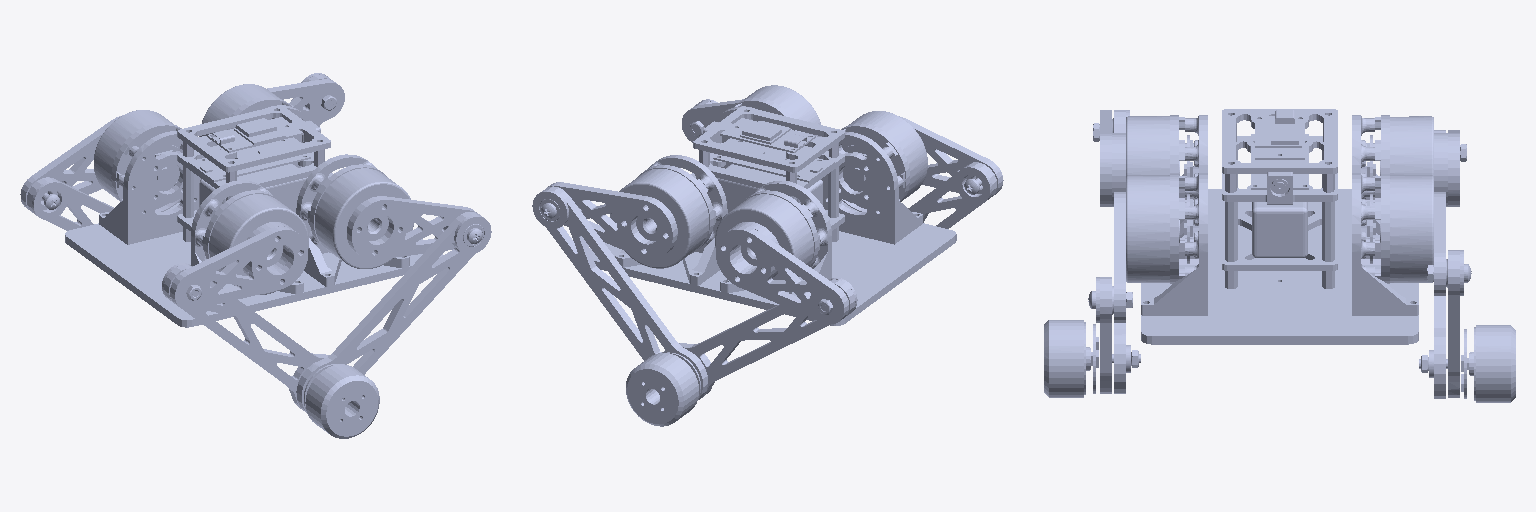
URDF robot description (Ass 1.1):
<?xml version="1.0" encoding="utf-8"?>
<!-- This URDF was automatically created by SolidWorks to URDF Exporter! Originally created by [author] ([email redacted]) 
     Commit Version: 1.6.0-4-g7f85cfe  Build Version: 1.6.7995.38578
     For more information, please see http://wiki.ros.org/sw_urdf_exporter -->
<robot
  name="Ass 1.1">
  <link
    name="base_link">
    <inertial>
      <origin
        xyz="4.09841988512367E-05 2.37259713124077E-06 0.0204223779825749"
        rpy="0 0 0" />
      <mass
        value="0.310805030676399" />
      <inertia
        ixx="0.000130060066627176"
        ixy="1.40022801629673E-09"
        ixz="-5.58328344584131E-08"
        iyy="0.000212083252188243"
        iyz="-1.56227645579612E-09"
        izz="0.000276271215536127" />
    </inertial>
    <visual>
      <origin
        xyz="0 0 0"
        rpy="0 0 0" />
      <geometry>
        <mesh
          filename="package://Ass 1.1/meshes/base_link.STL" />
      </geometry>
      <material
        name="">
        <color
          rgba="0.792156862745098 0.819607843137255 0.933333333333333 1" />
      </material>
    </visual>
    <collision>
      <origin
        xyz="0 0 0"
        rpy="0 0 0" />
      <geometry>
        <mesh
          filename="package://Ass 1.1/meshes/base_link.STL" />
      </geometry>
    </collision>
  </link>
  <link
    name="big3">
    <inertial>
      <origin
        xyz="-0.0134070886544285 0.00146559841204751 -0.00673551057779109"
        rpy="0 0 0" />
      <mass
        value="0.0104336042175876" />
      <inertia
        ixx="8.22335040292358E-07"
        ixy="2.61935145644951E-07"
        ixz="-1.2894277006672E-08"
        iyy="3.18984751436731E-06"
        iyz="1.40954031053812E-09"
        izz="3.9627706999722E-06" />
    </inertial>
    <visual>
      <origin
        xyz="0 0 0"
        rpy="0 0 0" />
      <geometry>
        <mesh
          filename="package://Ass 1.1/meshes/big3.STL" />
      </geometry>
      <material
        name="">
        <color
          rgba="0.792156862745098 0.819607843137255 0.933333333333333 1" />
      </material>
    </visual>
    <collision>
      <origin
        xyz="0 0 0"
        rpy="0 0 0" />
      <geometry>
        <mesh
          filename="package://Ass 1.1/meshes/big3.STL" />
      </geometry>
    </collision>
  </link>
  <joint
    name="jointbig3"
    type="revolute">
    <origin
      xyz="-0.030004 -0.0665 0.03"
      rpy="-1.5708 0 0" />
    <parent
      link="base_link" />
    <child
      link="big3" />
    <axis
      xyz="0 0 1" />
    <limit
      lower="0"
      upper="0"
      effort="0"
      velocity="0" />
  </joint>
  <link
    name="small3">
    <inertial>
      <origin
        xyz="0.0394582340714023 0.0368416725480409 0.00243582660253754"
        rpy="0 0 0" />
      <mass
        value="0.0111561368021954" />
      <inertia
        ixx="6.43655255680271E-06"
        ixy="-6.3229370913612E-06"
        ixz="-7.10811673037926E-09"
        iyy="7.32047191098462E-06"
        iyz="-6.63741040365017E-09"
        izz="1.36906272520063E-05" />
    </inertial>
    <visual>
      <origin
        xyz="0 0 0"
        rpy="0 0 0" />
      <geometry>
        <mesh
          filename="package://Ass 1.1/meshes/small3.STL" />
      </geometry>
      <material
        name="">
        <color
          rgba="0.792156862745098 0.819607843137255 0.933333333333333 1" />
      </material>
    </visual>
    <collision>
      <origin
        xyz="0 0 0"
        rpy="0 0 0" />
      <geometry>
        <mesh
          filename="package://Ass 1.1/meshes/small3.STL" />
      </geometry>
    </collision>
  </link>
  <joint
    name="jointsmall3"
    type="revolute">
    <origin
      xyz="-0.049704 0.0054334 -0.005"
      rpy="0 0 0" />
    <parent
      link="big3" />
    <child
      link="small3" />
    <axis
      xyz="0 0 -1" />
    <limit
      lower="0"
      upper="0"
      effort="0"
      velocity="0" />
  </joint>
  <link
    name="big4">
    <inertial>
      <origin
        xyz="0.0224576054646395 0.00513224980073214 -0.00273603004602135"
        rpy="0 0 0" />
      <mass
        value="0.00777564125771859" />
      <inertia
        ixx="6.45714526227384E-07"
        ixy="-5.26632271374529E-07"
        ixz="-1.26450924213408E-08"
        iyy="2.82979081547529E-06"
        iyz="-2.88978559758573E-09"
        izz="3.42452671783293E-06" />
    </inertial>
    <visual>
      <origin
        xyz="0 0 0"
        rpy="0 0 0" />
      <geometry>
        <mesh
          filename="package://Ass 1.1/meshes/big4.STL" />
      </geometry>
      <material
        name="">
        <color
          rgba="0.792156862745098 0.819607843137255 0.933333333333333 1" />
      </material>
    </visual>
    <collision>
      <origin
        xyz="0 0 0"
        rpy="0 0 0" />
      <geometry>
        <mesh
          filename="package://Ass 1.1/meshes/big4.STL" />
      </geometry>
    </collision>
  </link>
  <joint
    name="jointbig4"
    type="revolute">
    <origin
      xyz="0.029996 -0.0665 0.03"
      rpy="-1.5708 0 0" />
    <parent
      link="base_link" />
    <child
      link="big4" />
    <axis
      xyz="0 0 -1" />
    <limit
      lower="0"
      upper="0"
      effort="0"
      velocity="0" />
  </joint>
  <link
    name="small4">
    <inertial>
      <origin
        xyz="-0.0664136970004676 0.0535961162396307 -0.0119574529093842"
        rpy="0 0 0" />
      <mass
        value="0.0268340222050022" />
      <inertia
        ixx="7.02864859087569E-06"
        ixy="6.19420931063004E-06"
        ixz="-6.96177758529783E-09"
        iyy="9.72224935986626E-06"
        iyz="6.10002469626266E-09"
        izz="1.59304666768253E-05" />
    </inertial>
    <visual>
      <origin
        xyz="0 0 0"
        rpy="0 0 0" />
      <geometry>
        <mesh
          filename="package://Ass 1.1/meshes/small4.STL" />
      </geometry>
      <material
        name="">
        <color
          rgba="0.792156862745098 0.819607843137255 0.933333333333333 1" />
      </material>
    </visual>
    <collision>
      <origin
        xyz="0 0 0"
        rpy="0 0 0" />
      <geometry>
        <mesh
          filename="package://Ass 1.1/meshes/small4.STL" />
      </geometry>
    </collision>
  </link>
  <joint
    name="jointsmall4"
    type="revolute">
    <origin
      xyz="0.048743 0.011139 -0.006"
      rpy="0 0 0" />
    <parent
      link="big4" />
    <child
      link="small4" />
    <axis
      xyz="0 0 1" />
    <limit
      lower="0"
      upper="0"
      effort="0"
      velocity="0" />
  </joint>
  <link
    name="tire34">
    <inertial>
      <origin
        xyz="0.00217112730701572 -0.0530017260825686 0.0855001142820936"
        rpy="0 0 0" />
      <mass
        value="6.43417489455155" />
      <inertia
        ixx="0.0380101766979838"
        ixy="0.000437602498857918"
        ixz="6.11058573748003E-05"
        iyy="0.0353911818011722"
        iyz="-1.20645409849835E-05"
        izz="0.0270525455456595" />
    </inertial>
    <visual>
      <origin
        xyz="0 0 0"
        rpy="0 0 0" />
      <geometry>
        <mesh
          filename="package://Ass 1.1/meshes/tire34.STL" />
      </geometry>
      <material
        name="">
        <color
          rgba="1 1 1 1" />
      </material>
    </visual>
    <collision>
      <origin
        xyz="0 0 0"
        rpy="0 0 0" />
      <geometry>
        <mesh
          filename="package://Ass 1.1/meshes/tire34.STL" />
      </geometry>
    </collision>
  </link>
  <joint
    name="jointtire34"
    type="floating">
    <origin
      xyz="-0.081701 0.065954 -0.013"
      rpy="0 0 0" />
    <parent
      link="small4" />
    <child
      link="tire34" />
    <axis
      xyz="0 0 1" />
    <limit
      lower="0"
      upper="0"
      effort="0"
      velocity="0" />
  </joint>
  <link
    name="big1">
    <inertial>
      <origin
        xyz="0.0230137231993178 -0.00102595113315121 0.00273603004602135"
        rpy="0 0 0" />
      <mass
        value="0.00777564125771859" />
      <inertia
        ixx="5.30172326805182E-07"
        ixy="1.07882210026455E-07"
        ixz="1.29582220100487E-08"
        iyy="2.94533301489749E-06"
        iyz="-5.77672469964852E-10"
        izz="3.42452671783293E-06" />
    </inertial>
    <visual>
      <origin
        xyz="0 0 0"
        rpy="0 0 0" />
      <geometry>
        <mesh
          filename="package://Ass 1.1/meshes/big1.STL" />
      </geometry>
      <material
        name="">
        <color
          rgba="0.792156862745098 0.819607843137255 0.933333333333333 1" />
      </material>
    </visual>
    <collision>
      <origin
        xyz="0 0 0"
        rpy="0 0 0" />
      <geometry>
        <mesh
          filename="package://Ass 1.1/meshes/big1.STL" />
      </geometry>
    </collision>
  </link>
  <joint
    name="jointbig1"
    type="revolute">
    <origin
      xyz="0.029996 0.0665 0.03"
      rpy="-1.5708 0 0" />
    <parent
      link="base_link" />
    <child
      link="big1" />
    <axis
      xyz="0 0 -1" />
    <limit
      lower="0"
      upper="0"
      effort="0"
      velocity="0" />
  </joint>
  <link
    name="small1">
    <inertial>
      <origin
        xyz="-0.0583815990055666 0.0622487889263295 0.0119574529093842"
        rpy="0 0 0" />
      <mass
        value="0.0268340222050022" />
      <inertia
        ixx="8.78964937007165E-06"
        ixy="6.32538839065257E-06"
        ixz="6.60032885441986E-09"
        iyy="7.96124858067029E-06"
        iyz="-6.489399622132E-09"
        izz="1.59304666768253E-05" />
    </inertial>
    <visual>
      <origin
        xyz="0 0 0"
        rpy="0 0 0" />
      <geometry>
        <mesh
          filename="package://Ass 1.1/meshes/small1.STL" />
      </geometry>
      <material
        name="">
        <color
          rgba="0.792156862745098 0.819607843137255 0.933333333333333 1" />
      </material>
    </visual>
    <collision>
      <origin
        xyz="0 0 0"
        rpy="0 0 0" />
      <geometry>
        <mesh
          filename="package://Ass 1.1/meshes/small1.STL" />
      </geometry>
    </collision>
  </link>
  <joint
    name="jointsmall1"
    type="revolute">
    <origin
      xyz="0.04995 -0.0022268 0.006"
      rpy="0 0 0" />
    <parent
      link="big1" />
    <child
      link="small1" />
    <axis
      xyz="0 0 1" />
    <limit
      lower="0"
      upper="0"
      effort="0"
      velocity="0" />
  </joint>
  <link
    name="tire12">
    <inertial>
      <origin
        xyz="-0.00889683852979697 -0.050258398320467 -0.0854998857179067"
        rpy="0 0 0" />
      <mass
        value="6.43417489455155" />
      <inertia
        ixx="0.0380101766979838"
        ixy="0.000437602498857918"
        ixz="6.11058573748007E-05"
        iyy="0.0353911818011722"
        iyz="-1.20645409849869E-05"
        izz="0.0270525455456595" />
    </inertial>
    <visual>
      <origin
        xyz="0 0 0"
        rpy="0 0 0" />
      <geometry>
        <mesh
          filename="package://Ass 1.1/meshes/tire12.STL" />
      </geometry>
      <material
        name="">
        <color
          rgba="1 1 1 1" />
      </material>
    </visual>
    <collision>
      <origin
        xyz="0 0 0"
        rpy="0 0 0" />
      <geometry>
        <mesh
          filename="package://Ass 1.1/meshes/tire12.STL" />
      </geometry>
    </collision>
  </link>
  <joint
    name="jointtire12"
    type="floating">
    <origin
      xyz="-0.071841 0.076576 0.013"
      rpy="0 0 0" />
    <parent
      link="small1" />
    <child
      link="tire12" />
    <axis
      xyz="0 0 -1" />
  </joint>
  <link
    name="big2">
    <inertial>
      <origin
        xyz="-0.0129326682114563 0.00382676074840404 0.00673551057779109"
        rpy="0 0 0" />
      <mass
        value="0.0104336042175876" />
      <inertia
        ixx="9.88913738644862E-07"
        ixy="6.59726234163802E-07"
        ixz="1.24380028097185E-08"
        iyy="3.02326881601479E-06"
        iyz="-3.68038985941867E-09"
        izz="3.96277069997219E-06" />
    </inertial>
    <visual>
      <origin
        xyz="0 0 0"
        rpy="0 0 0" />
      <geometry>
        <mesh
          filename="package://Ass 1.1/meshes/big2.STL" />
      </geometry>
      <material
        name="">
        <color
          rgba="0.792156862745098 0.819607843137255 0.933333333333333 1" />
      </material>
    </visual>
    <collision>
      <origin
        xyz="0 0 0"
        rpy="0 0 0" />
      <geometry>
        <mesh
          filename="package://Ass 1.1/meshes/big2.STL" />
      </geometry>
    </collision>
  </link>
  <joint
    name="jointbig2"
    type="revolute">
    <origin
      xyz="-0.030004 0.0665 0.03"
      rpy="-1.5708 0 0" />
    <parent
      link="base_link" />
    <child
      link="big2" />
    <axis
      xyz="0 0 -1" />
    <limit
      lower="0"
      upper="0"
      effort="0"
      velocity="0" />
  </joint>
  <link
    name="small2">
    <inertial>
      <origin
        xyz="0.044243009495417 0.0309324616375522 -0.00243582660253762"
        rpy="0 0 0" />
      <mass
        value="0.0111561368021954" />
      <inertia
        ixx="4.70949583921532E-06"
        ixy="-5.95568885160247E-06"
        ixz="7.97069377777079E-09"
        iyy="9.04752862857196E-06"
        iyz="5.57212535936874E-09"
        izz="1.36906272520062E-05" />
    </inertial>
    <visual>
      <origin
        xyz="0 0 0"
        rpy="0 0 0" />
      <geometry>
        <mesh
          filename="package://Ass 1.1/meshes/small2.STL" />
      </geometry>
      <material
        name="">
        <color
          rgba="0.792156862745098 0.819607843137255 0.933333333333333 1" />
      </material>
    </visual>
    <collision>
      <origin
        xyz="0 0 0"
        rpy="0 0 0" />
      <geometry>
        <mesh
          filename="package://Ass 1.1/meshes/small2.STL" />
      </geometry>
    </collision>
  </link>
  <joint
    name="jointsmall2"
    type="revolute">
    <origin
      xyz="-0.047945 0.014187 0.005"
      rpy="0 0 0" />
    <parent
      link="big2" />
    <child
      link="small2" />
    <axis
      xyz="0 0 -1" />
    <limit
      lower="0"
      upper="0"
      effort="0"
      velocity="0" />
  </joint>
</robot>

--- What the picture shows (computed from the rendered views, not written in the file) ---
The picture shows the robot from 3 angles, left to right: view 1: azimuth 30°, elevation 25°; view 2: azimuth 150°, elevation 25°; view 3: azimuth 270°, elevation 25°; orthographic projection.
Robot: Ass 1.1 — 11 links, 10 joints (8 revolute, 2 floating); root link base_link; default pose: all joints at 0.
Visible links, largest first — view 1: base_link, small4, big3, big4, small3, small2, big2, big1; view 2: base_link, small1, big2, big1, small2, small3, big3, big4; view 3: base_link, small1, small4, big3, big4, big2, big1, small2, small3.
Boxes of the visible links, x1=… form: base_link: x1=65, y1=84, x2=442, y2=327; small4: x1=296, y1=212, x2=491, y2=438; big3: x1=170, y1=222, x2=307, y2=309; big4: x1=347, y1=196, x2=482, y2=259; small3: x1=162, y1=263, x2=328, y2=410; small2: x1=27, y1=177, x2=113, y2=230; big2: x1=20, y1=115, x2=122, y2=212; big1: x1=267, y1=79, x2=344, y2=124; base_link: x1=590, y1=85, x2=956, y2=325; small1: x1=532, y1=186, x2=707, y2=426; big2: x1=716, y1=222, x2=848, y2=323; big1: x1=541, y1=182, x2=677, y2=259; small2: x1=679, y1=278, x2=857, y2=397; small3: x1=908, y1=162, x2=996, y2=228; big3: x1=899, y1=116, x2=1003, y2=195; big4: x1=682, y1=99, x2=743, y2=142; base_link: x1=1126, y1=109, x2=1433, y2=344; small1: x1=1419, y1=250, x2=1515, y2=402; small4: x1=1044, y1=277, x2=1140, y2=397; big3: x1=1100, y1=110, x2=1125, y2=206; big4: x1=1088, y1=192, x2=1132, y2=322; big2: x1=1434, y1=130, x2=1459, y2=206; big1: x1=1427, y1=192, x2=1471, y2=295; small2: x1=1434, y1=130, x2=1466, y2=398; small3: x1=1093, y1=110, x2=1129, y2=393.
Size in the robot's own frame: 0.1796 by 0.203 by 0.1269 metres.
9 mesh visuals loaded from 11 distinct referenced files (9 binary STL); not drawn: 2 (file found but could not be loaded).